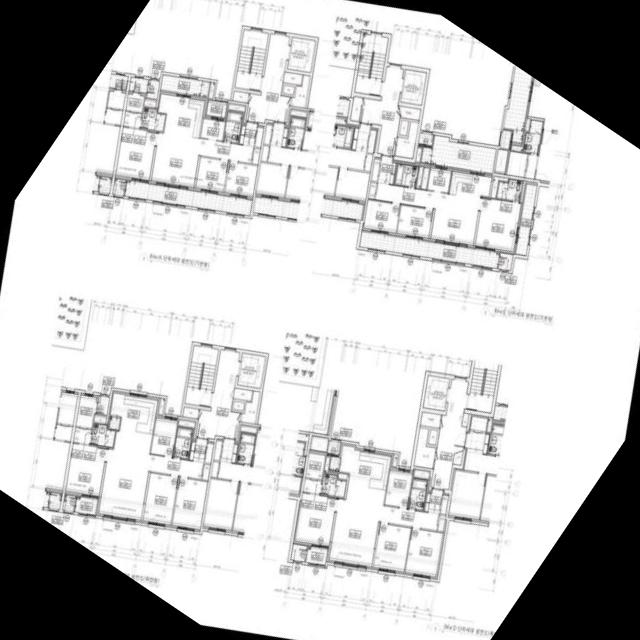background: (0, 0, 640, 640)
space_balconi: (359, 232, 500, 269), (125, 181, 252, 216), (430, 136, 496, 173), (516, 184, 537, 256), (161, 75, 210, 97), (75, 497, 98, 515), (306, 547, 328, 565), (206, 100, 227, 118), (129, 77, 148, 93)
space_bedroom: (475, 198, 521, 252), (115, 127, 157, 180), (65, 444, 107, 496), (295, 493, 336, 546), (172, 478, 208, 530), (405, 529, 443, 577), (373, 524, 411, 572), (143, 473, 178, 525), (364, 200, 400, 233), (397, 206, 433, 239), (225, 162, 258, 197), (196, 157, 228, 192), (385, 470, 413, 508), (151, 418, 178, 457)
space_dressroom: (73, 395, 97, 444), (303, 453, 326, 494), (123, 93, 144, 128)
space_elevator: (287, 37, 315, 73), (237, 353, 265, 388), (423, 376, 450, 411), (400, 70, 427, 105)
space_elevator_hall: (431, 380, 468, 490), (246, 34, 290, 123), (196, 350, 240, 439), (360, 67, 403, 156)
space_front: (239, 122, 264, 148), (189, 439, 214, 463), (378, 156, 397, 186), (424, 490, 443, 515)
space_kitchen: (339, 446, 391, 506), (111, 393, 158, 455), (158, 94, 204, 139), (449, 172, 492, 198)
space_living_room: (99, 449, 210, 520), (329, 499, 439, 567), (375, 184, 480, 245), (151, 133, 260, 187)
space_other: (414, 428, 436, 469), (395, 122, 419, 159), (241, 391, 260, 424), (291, 75, 310, 108), (427, 168, 451, 193), (201, 119, 225, 141), (491, 177, 508, 198), (421, 412, 441, 428), (399, 106, 421, 120), (291, 544, 307, 562), (350, 97, 362, 121), (498, 253, 513, 271), (233, 388, 253, 401), (283, 72, 303, 85), (311, 438, 328, 452), (324, 457, 338, 474), (97, 396, 109, 415), (147, 80, 159, 99), (183, 407, 199, 419), (233, 91, 249, 103), (421, 147, 432, 164), (372, 159, 380, 182), (440, 495, 449, 515), (421, 168, 429, 189), (108, 417, 120, 430), (329, 457, 340, 471), (428, 430, 438, 445), (399, 121, 409, 136), (416, 167, 423, 188), (453, 451, 463, 465), (369, 183, 377, 199), (438, 516, 446, 532), (208, 82, 215, 99), (179, 421, 195, 428), (415, 471, 429, 479), (229, 105, 245, 112), (233, 402, 244, 411), (283, 86, 294, 95), (462, 413, 469, 427), (144, 101, 156, 108), (94, 417, 106, 424), (416, 148, 422, 162), (392, 454, 398, 467), (338, 474, 348, 480)
space_outdoor_room: (62, 495, 76, 512), (112, 179, 126, 196), (327, 441, 340, 455), (419, 133, 433, 146)
space_staircase: (467, 351, 500, 413), (355, 34, 388, 96), (185, 346, 218, 407), (235, 30, 268, 91)
space_toilet: (224, 111, 243, 143), (321, 474, 346, 498), (174, 427, 192, 459), (141, 108, 165, 132), (409, 479, 427, 510), (91, 424, 115, 447), (497, 180, 522, 202), (395, 164, 418, 187)
